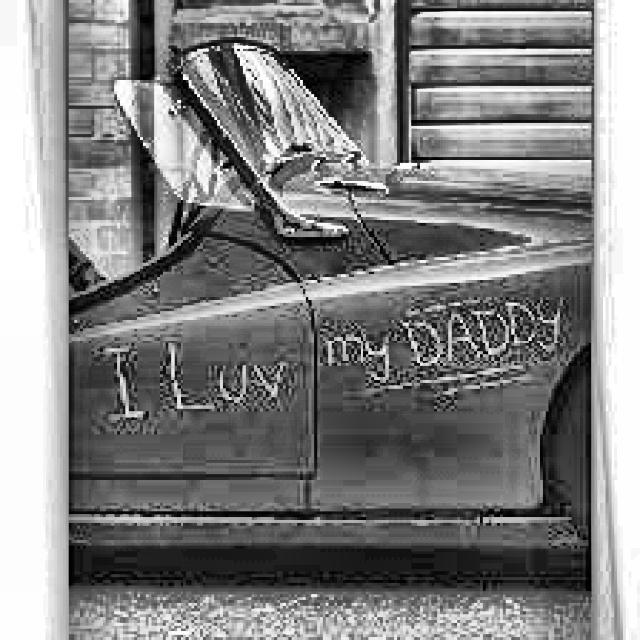door_scratch: (323, 296, 568, 392), (90, 338, 294, 425)
